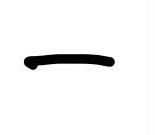minus: (24, 54, 115, 70)
